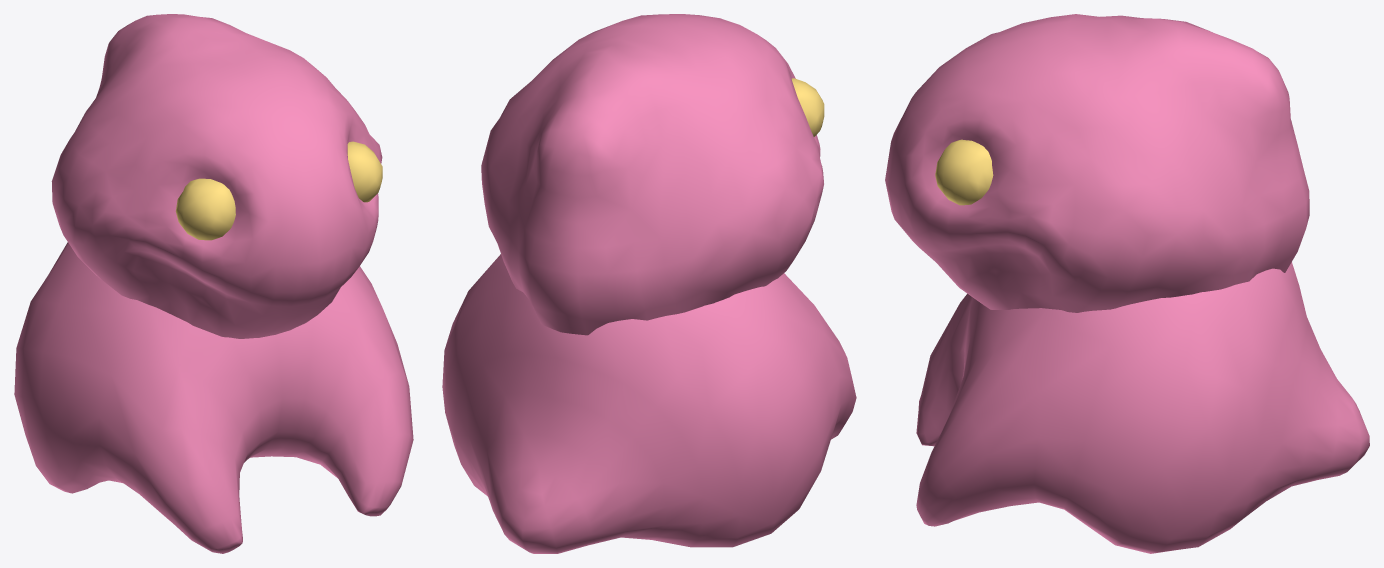
The model's file is keeper.fbx.
The picture shows the model from 3 angles, left to right: view 1: azimuth 30°, elevation 25°; view 2: azimuth 150°, elevation 25°; view 3: azimuth 270°, elevation 25°; orthographic projection. The views are drawn at different scales.
Parts seen in each view (by area): view 1: keeper; view 2: keeper; view 3: keeper.
Part boxes in pixels (x1=…): keeper: x1=14, y1=14, x2=413, y2=553; keeper: x1=442, y1=14, x2=856, y2=553; keeper: x1=885, y1=14, x2=1369, y2=553.
Size of the model in its own units: 271 by 337 by 321.
